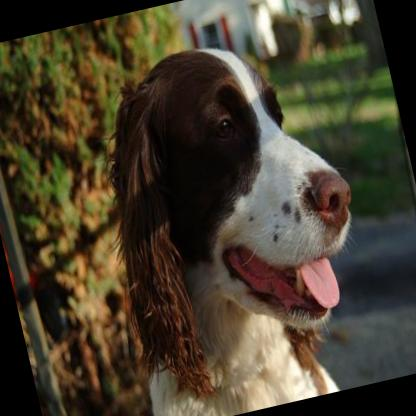English_springer: (73, 21, 392, 416)
